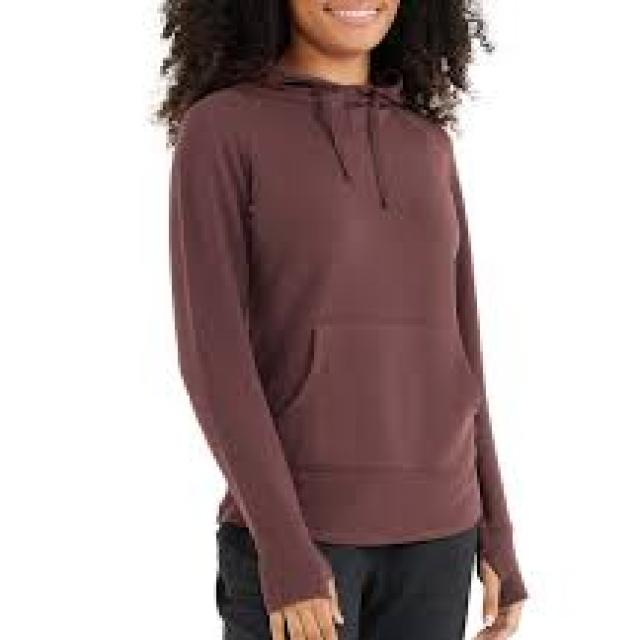plain: (153, 80, 512, 532)
